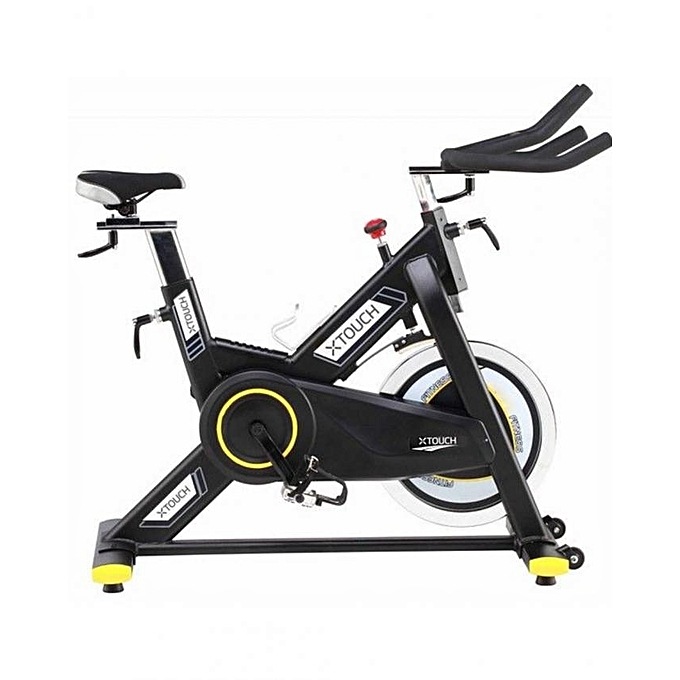gym_bike: (51, 79, 628, 624)
